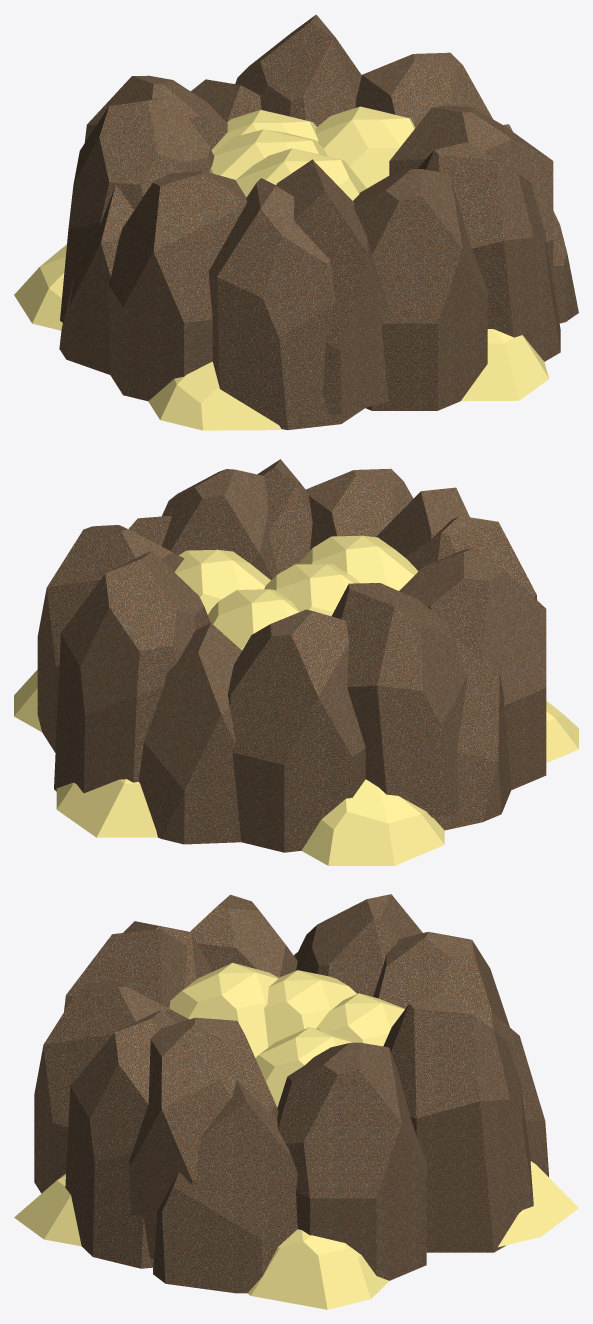
Rendered from Crusted_Custard_Volcano.fbx.
The picture shows the model from 3 angles, top to bottom: view 1: azimuth 30°, elevation 25°; view 2: azimuth 150°, elevation 25°; view 3: azimuth 270°, elevation 25°; orthographic projection.
Parts seen in each view (by area): view 1: mergedBlocks; view 2: mergedBlocks; view 3: mergedBlocks.
Part boxes in pixels (x1,y1,x2,y2): mergedBlocks: (14, 14, 578, 430); mergedBlocks: (14, 459, 578, 865); mergedBlocks: (14, 894, 578, 1309).
Bounding box in the file's own units: 169 × 75.13 × 169.
